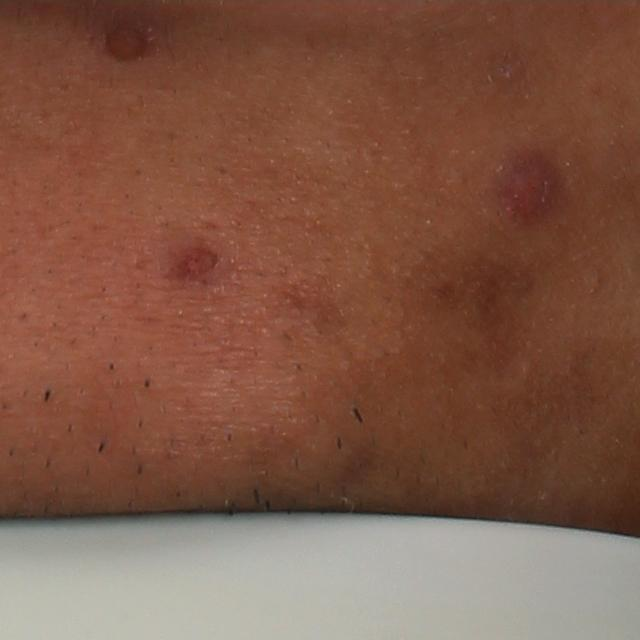papule: (490, 152, 566, 229)
